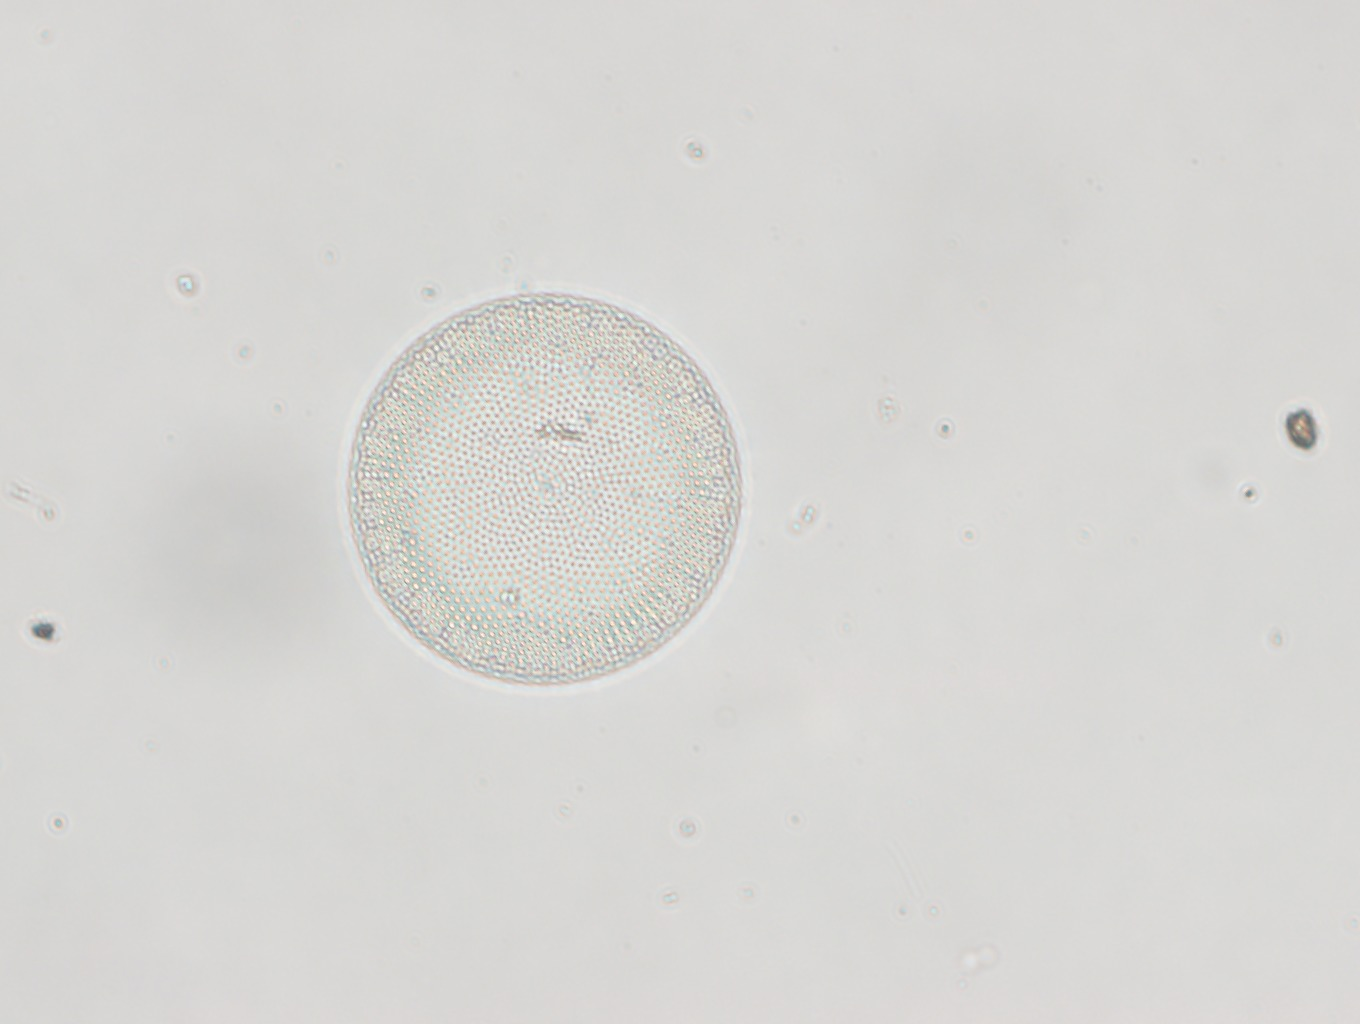coscinodiscus: (346, 293, 745, 694)
